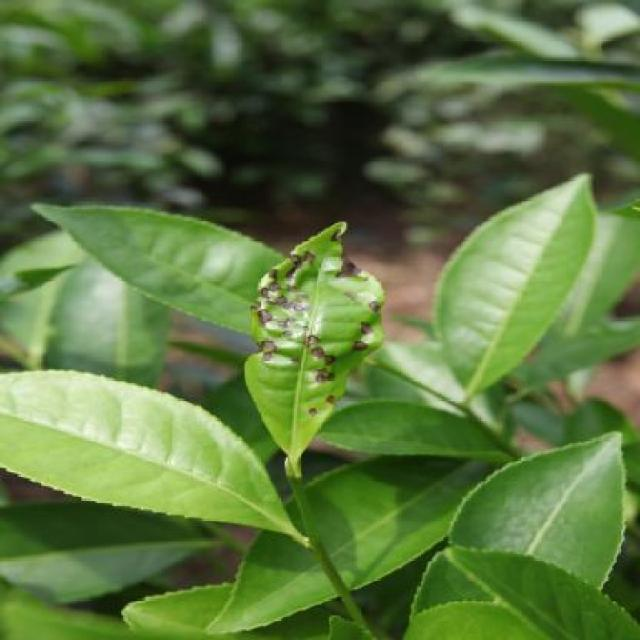Tea Mosquito bug infested leaf: (198, 188, 362, 464)
